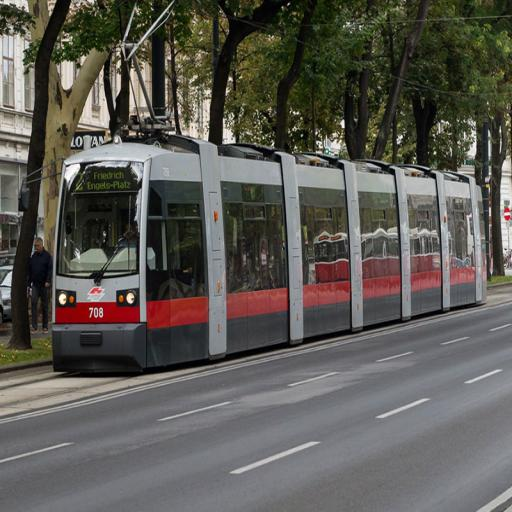ULF: (53, 131, 486, 370)
